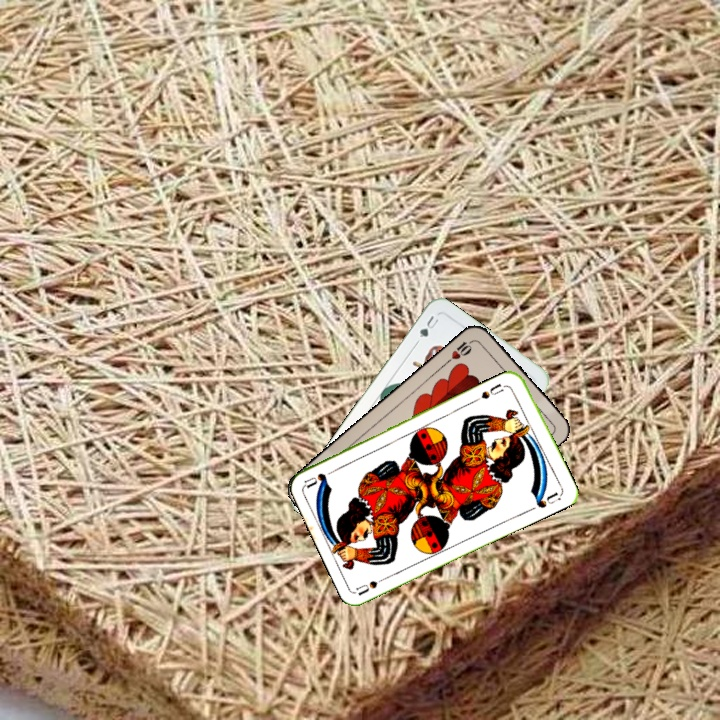GU: (415, 311, 442, 340)
H10: (442, 336, 477, 366)
SU: (353, 571, 392, 597), (477, 379, 511, 402)
